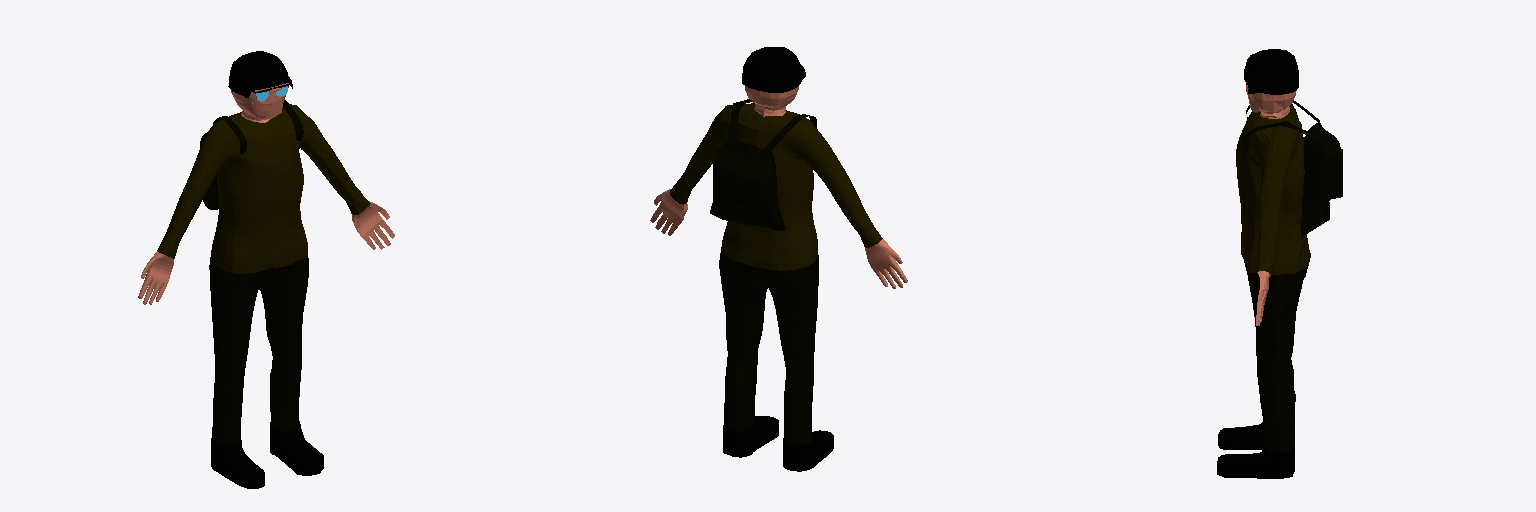
File: Player.obj
3 renders of one model, left to right at view 1: azimuth 30°, elevation 25°; view 2: azimuth 150°, elevation 25°; view 3: azimuth 270°, elevation 25°, orthographic.
Parts seen in each view (by area): view 1: Body_Cube.008, Body.001_Cube.006, Bag_Cube.009; view 2: Body_Cube.008, Body.001_Cube.006, Bag_Cube.009, Cube.001_Cube.007; view 3: Body.001_Cube.006, Body_Cube.008, Cube.001_Cube.007, Bag_Cube.009.
Part boxes in pixels (left/top/right/bottom): Body_Cube.008: left=138, top=74, right=390, bottom=488; Body.001_Cube.006: left=228, top=51, right=394, bottom=475; Bag_Cube.009: left=200, top=106, right=296, bottom=209; Body_Cube.008: left=656, top=64, right=907, bottom=471; Body.001_Cube.006: left=650, top=47, right=801, bottom=457; Bag_Cube.009: left=717, top=101, right=816, bottom=230; Cube.001_Cube.007: left=710, top=99, right=756, bottom=227; Body.001_Cube.006: left=1217, top=49, right=1310, bottom=478; Body_Cube.008: left=1218, top=65, right=1308, bottom=478; Cube.001_Cube.007: left=1243, top=121, right=1342, bottom=236; Bag_Cube.009: left=1246, top=100, right=1340, bottom=221.
Bounding box in the file's own units: 4.2 × 6.35 × 1.78.